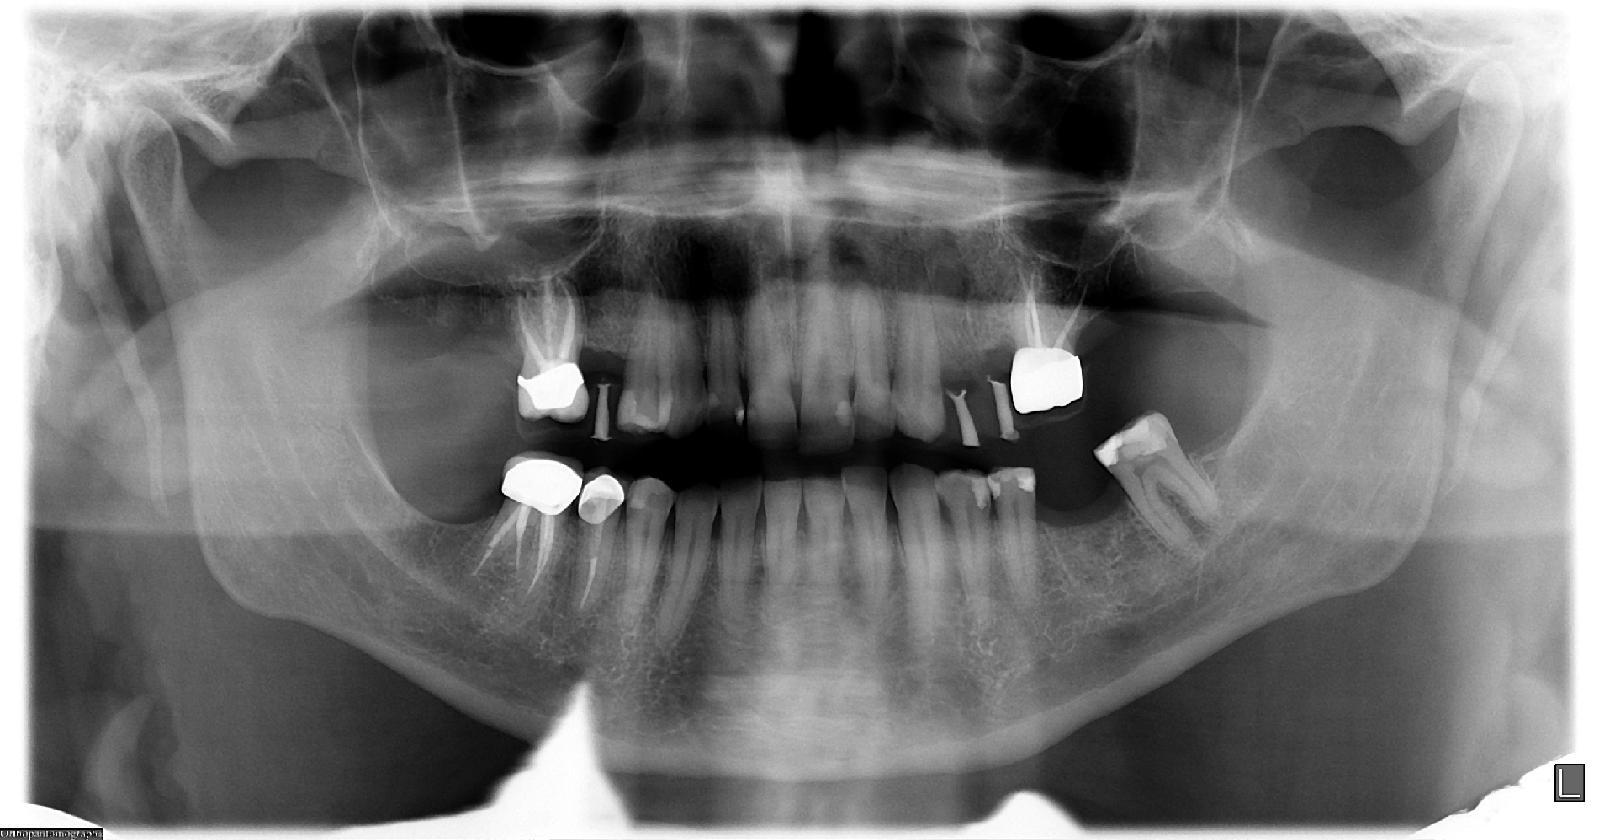Erupted: (1094, 413, 1242, 560)
